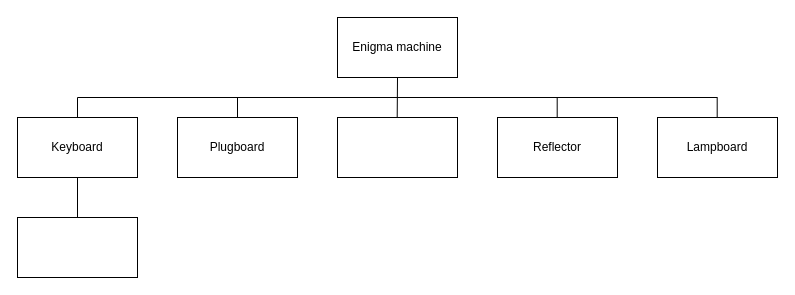
Some shapes in this 795 by 295 pixel diagram are drawn without their labels. Each missing label, with the centre of its shape:
"Capture letter" belongs at point (77, 247).
"Rotors" belongs at point (397, 147).
